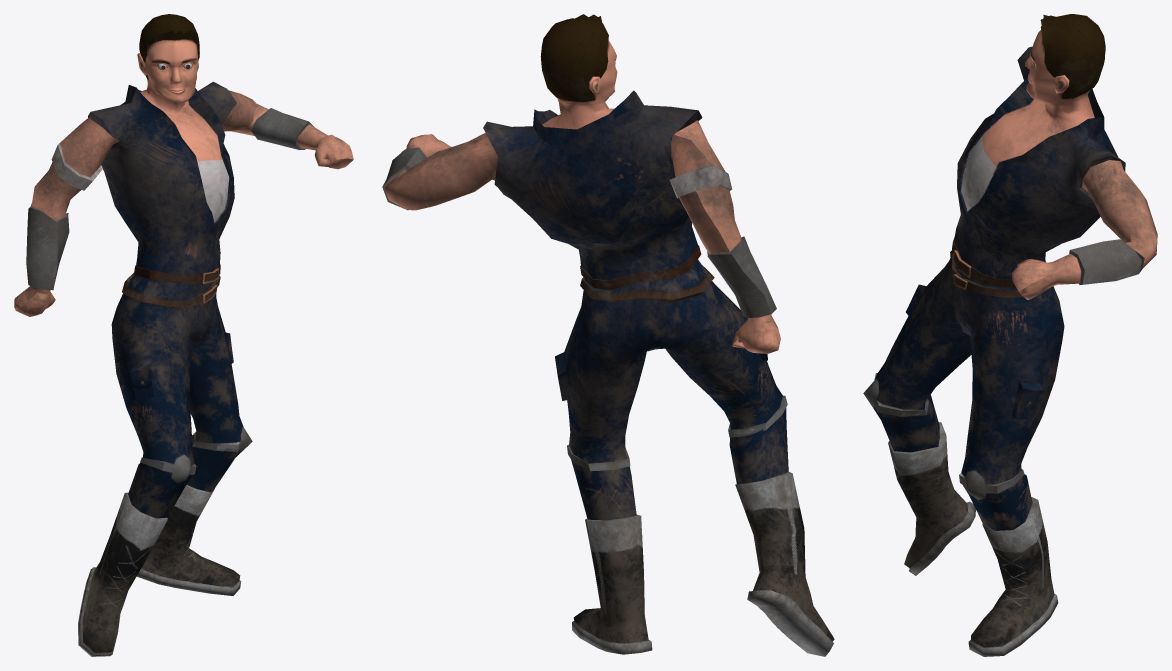
File: Anim_ataque_f2_jugador.0020.obj
The picture shows the model from 3 angles, left to right: view 1: azimuth 30°, elevation 25°; view 2: azimuth 150°, elevation 25°; view 3: azimuth 270°, elevation 25°; orthographic projection. The views are drawn at different scales.
Visible parts, largest first — view 1: polySurface1; view 2: polySurface1; view 3: polySurface1.
Boxes of the visible parts, box(x1,y1,x2,y2) form: polySurface1: box(14, 14, 353, 656); polySurface1: box(382, 14, 834, 656); polySurface1: box(863, 14, 1157, 656).
Bounding box in the file's own units: 5.82 × 9.5 × 4.02.
